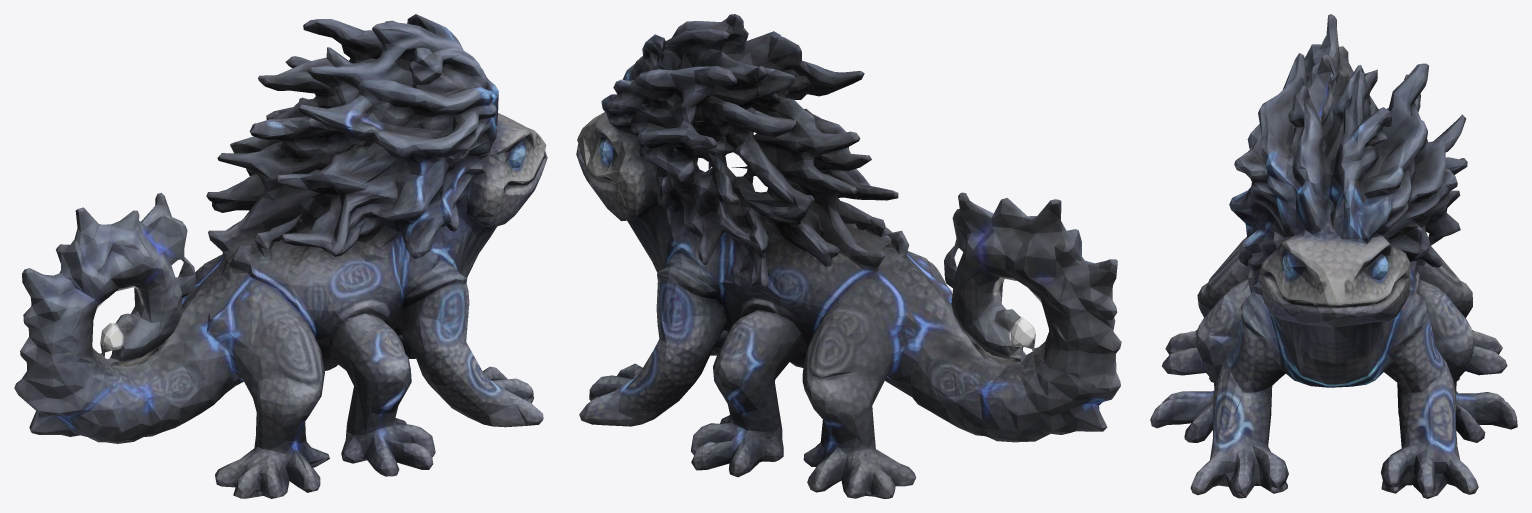
Rendered from volthorn__tempestSleipnir.glb.
The picture shows the model from 3 angles, left to right: view 1: azimuth 30°, elevation 25°; view 2: azimuth 150°, elevation 25°; view 3: azimuth 270°, elevation 25°; orthographic projection. The views are drawn at different scales.
Parts seen in each view (by area): view 1: world; view 2: world; view 3: world.
Part boxes in pixels (x1,y1,x2,y2): world: [14, 14, 547, 498]; world: [576, 14, 1121, 498]; world: [1150, 14, 1517, 498].
Size of the model in its own units: 1 by 0.6639 by 0.5727.
Materials: 1 (1 with a texture image).
